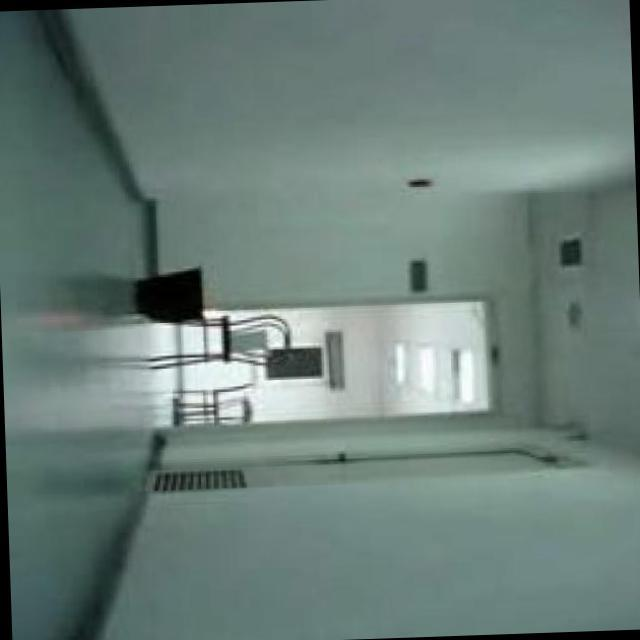Fire: (203, 310, 222, 329)
